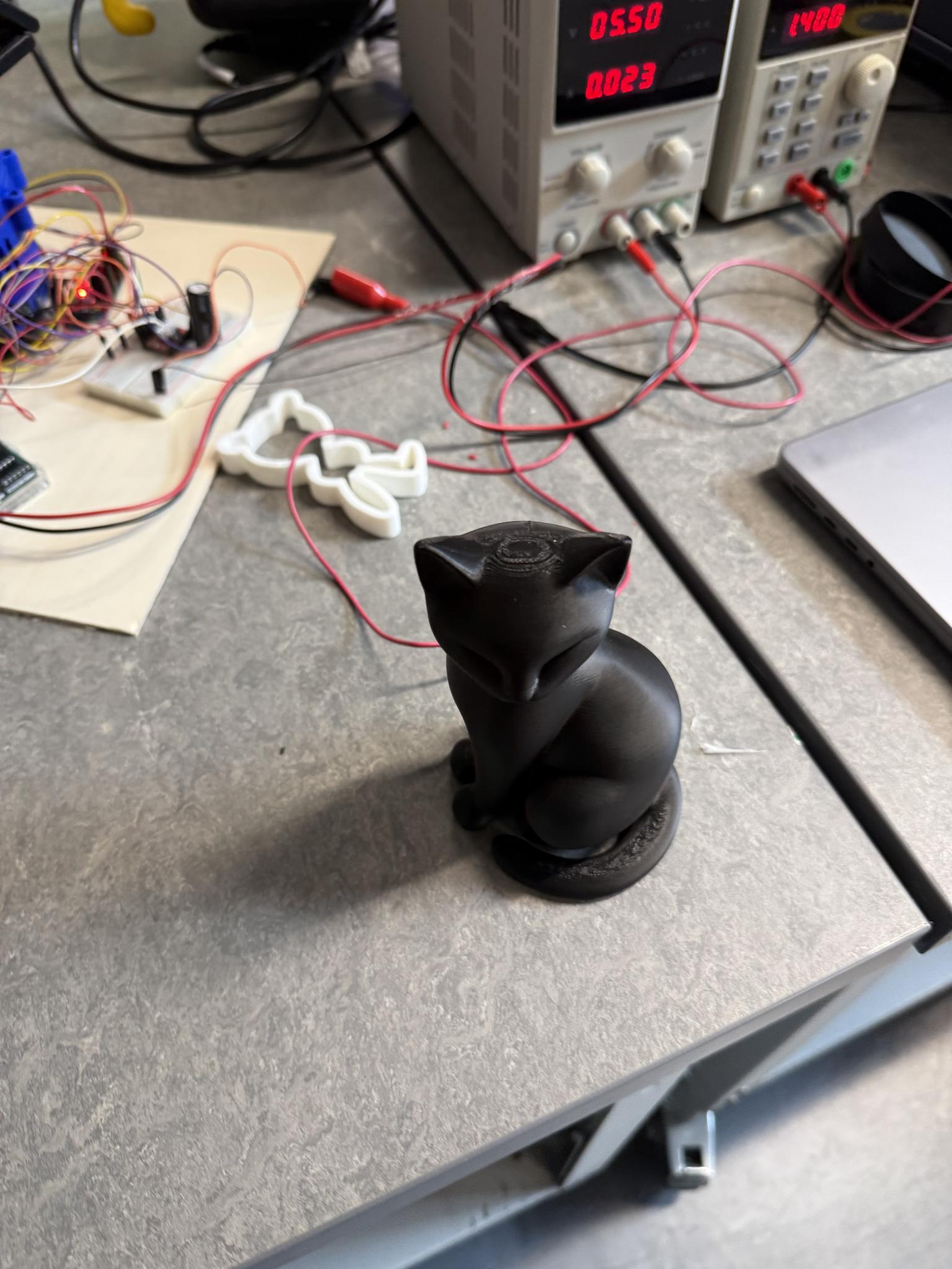cat: (415, 521, 681, 902)
